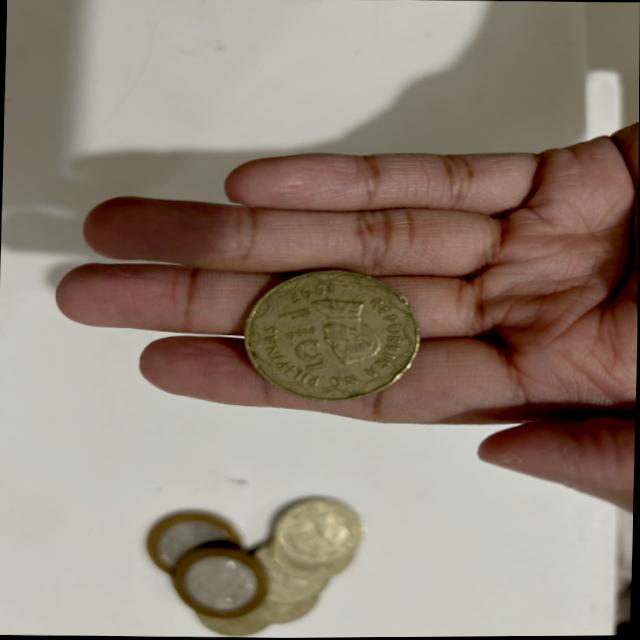5_Old_Front: (279, 314, 336, 373)
